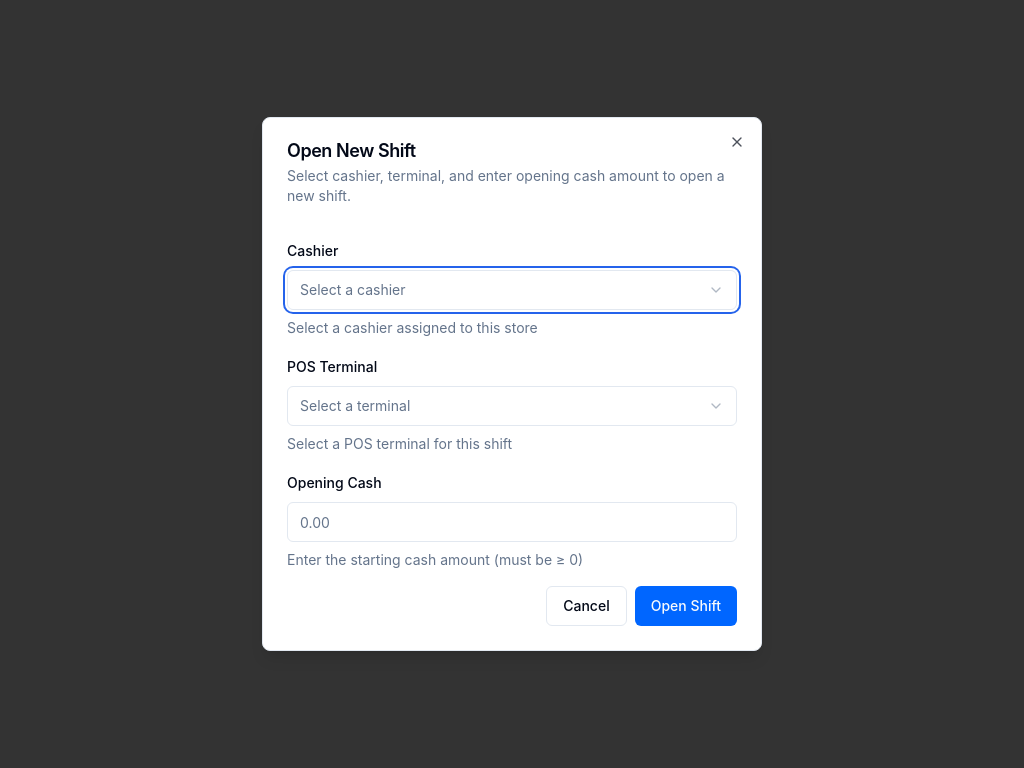
Test: 4.7-COMPONENT: ShiftOpeningForm Component › [P0] 4.7-COMPONENT-025: should require cashier selection
// Form is submitted without selecting cashier
Click the button with test id "submit-shift-opening".
click(686, 606)  # box [635, 586, 737, 626]
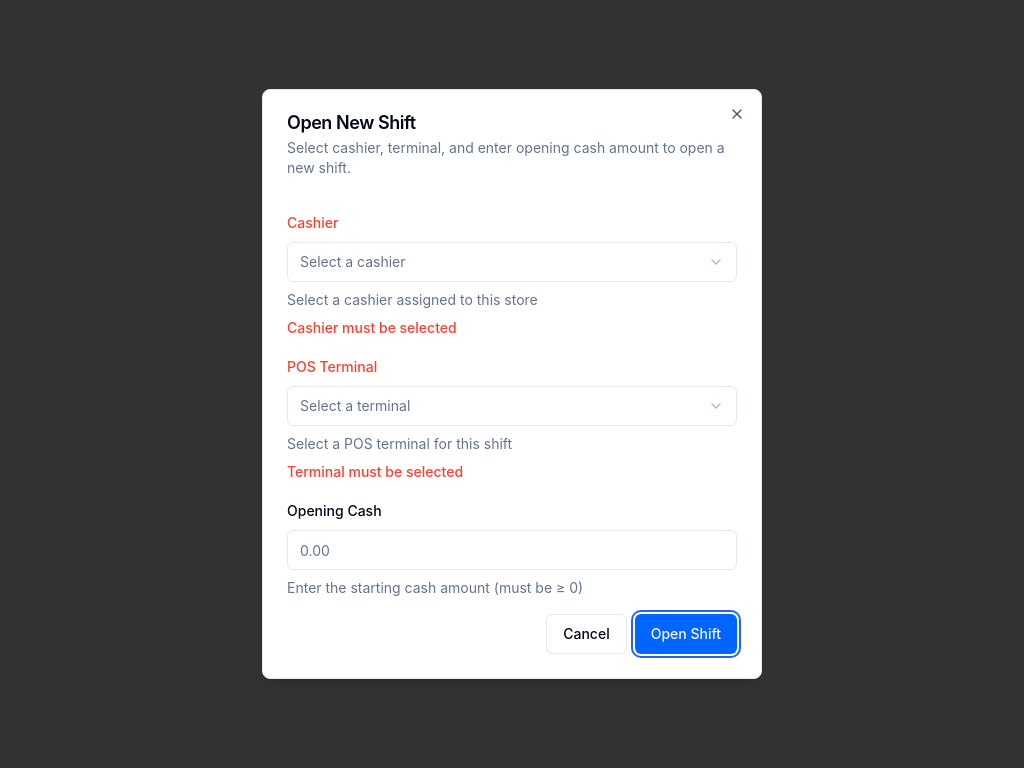
Now the text "Cashier must be selected" is shown, box [287, 319, 457, 336]
